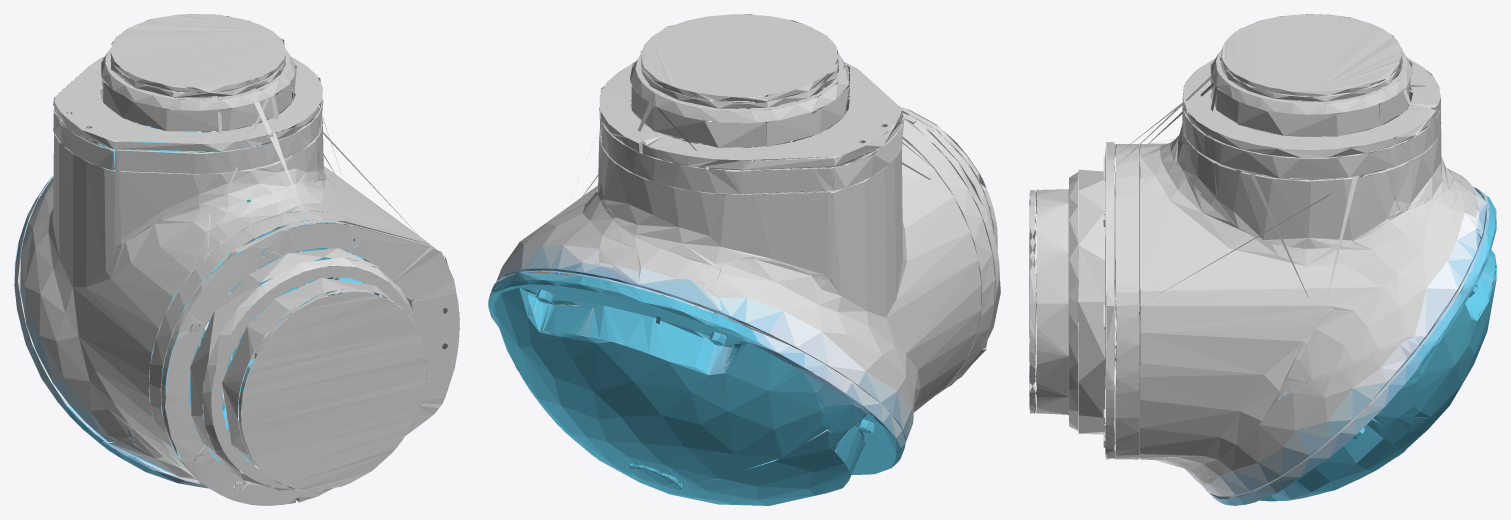
Rendered from MotomanHC10DTPLink3.dae.
3 views of the same model, side by side, from view 1: azimuth 30°, elevation 25°; view 2: azimuth 150°, elevation 25°; view 3: azimuth 270°, elevation 25° (orthographic). The views are drawn at different scales.
Parts seen in each view (by area): view 1: MotomanHC10DTPLink3; view 2: MotomanHC10DTPLink3; view 3: MotomanHC10DTPLink3.
Part boxes in pixels (left/top/right/bottom): MotomanHC10DTPLink3: left=14, top=14, right=459, bottom=505; MotomanHC10DTPLink3: left=488, top=14, right=1000, bottom=505; MotomanHC10DTPLink3: left=1029, top=14, right=1496, bottom=505.
Size of the model in its own units: 0.1905 by 0.2191 by 0.2163.
